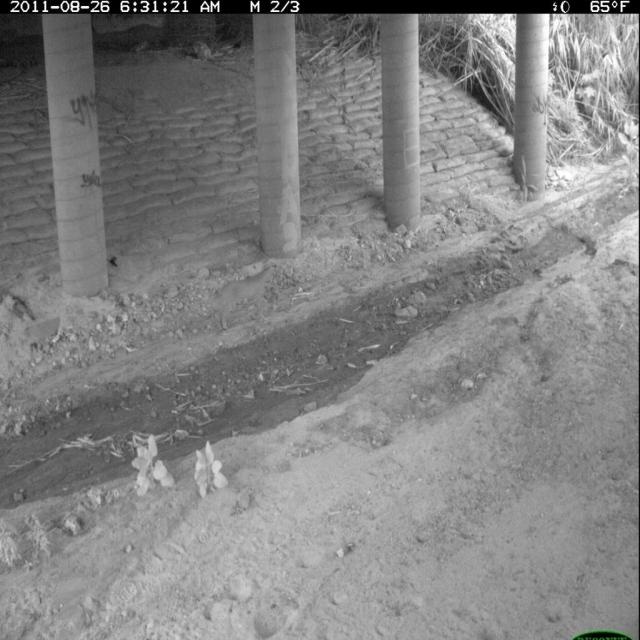bobcat: (205, 262, 281, 336)
